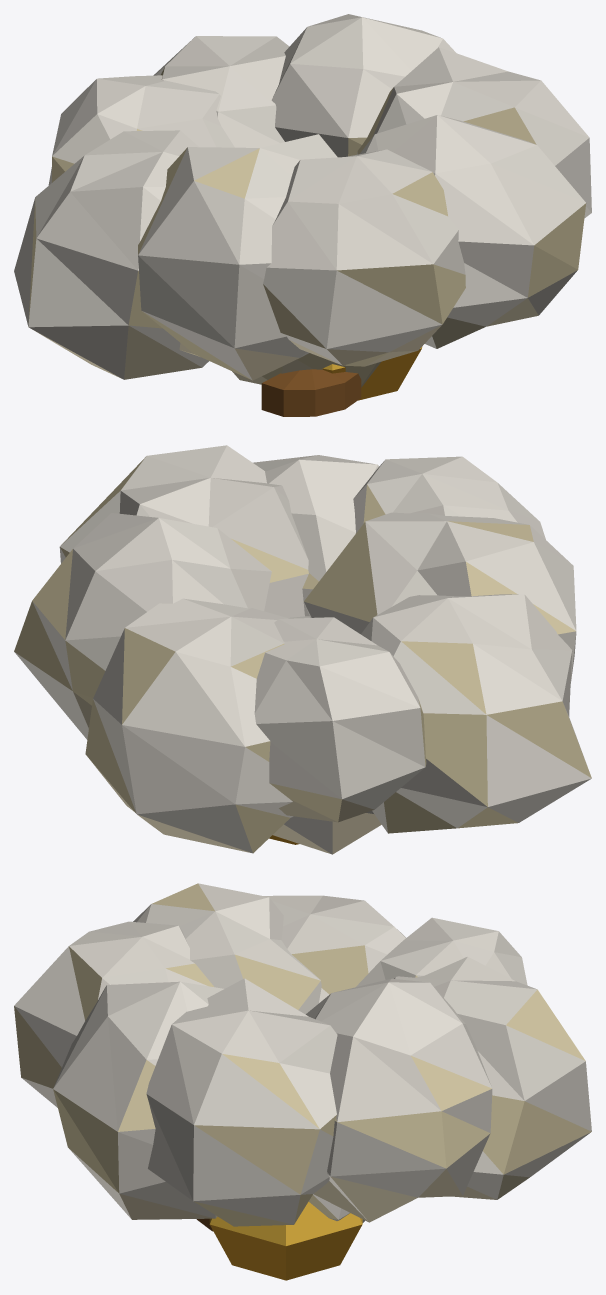
The model's file is food-popcorn.glb.
The picture shows the model from 3 angles, top to bottom: view 1: azimuth 30°, elevation 25°; view 2: azimuth 150°, elevation 25°; view 3: azimuth 270°, elevation 25°; orthographic projection. The views are drawn at different scales.
Bounding box in the file's own units: 2.39 × 1.45 × 2.36.
